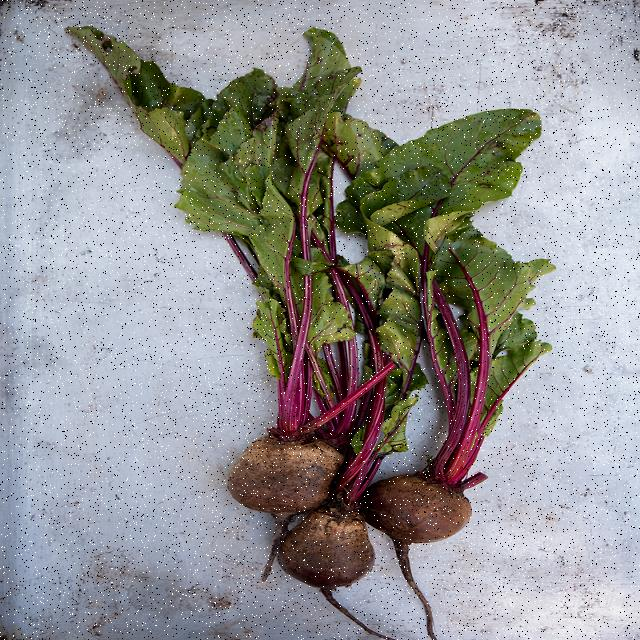Beetroot: (230, 414, 484, 602)
